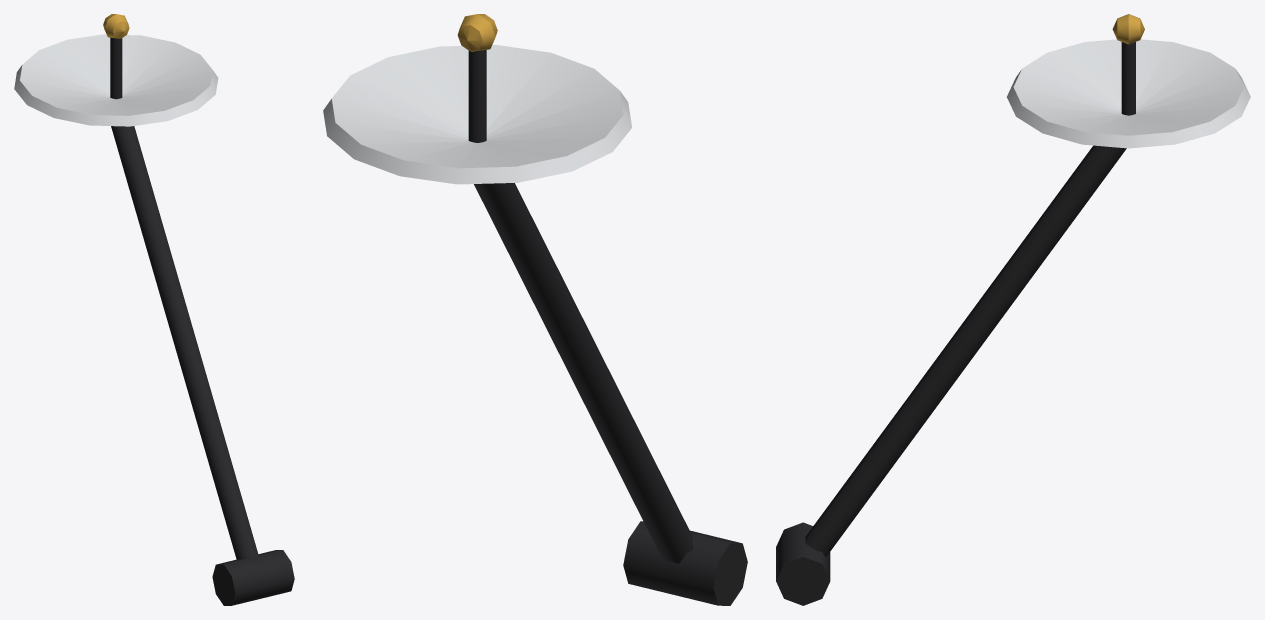
Rendered from rd1_antenna.obj.
3 views of the same model, side by side, from view 1: azimuth 30°, elevation 25°; view 2: azimuth 150°, elevation 25°; view 3: azimuth 270°, elevation 25° (orthographic). The views are drawn at different scales.
Parts seen in each view (by area): view 1: rd1_antenna; view 2: rd1_antenna; view 3: rd1_antenna.
Boxes of the visible parts, box(x1,y1,x2,y2) form: rd1_antenna: box(14, 14, 294, 605); rd1_antenna: box(323, 14, 747, 605); rd1_antenna: box(776, 14, 1250, 605).
Bounding box in the file's own units: 0.18 × 0.467 × 0.35.
